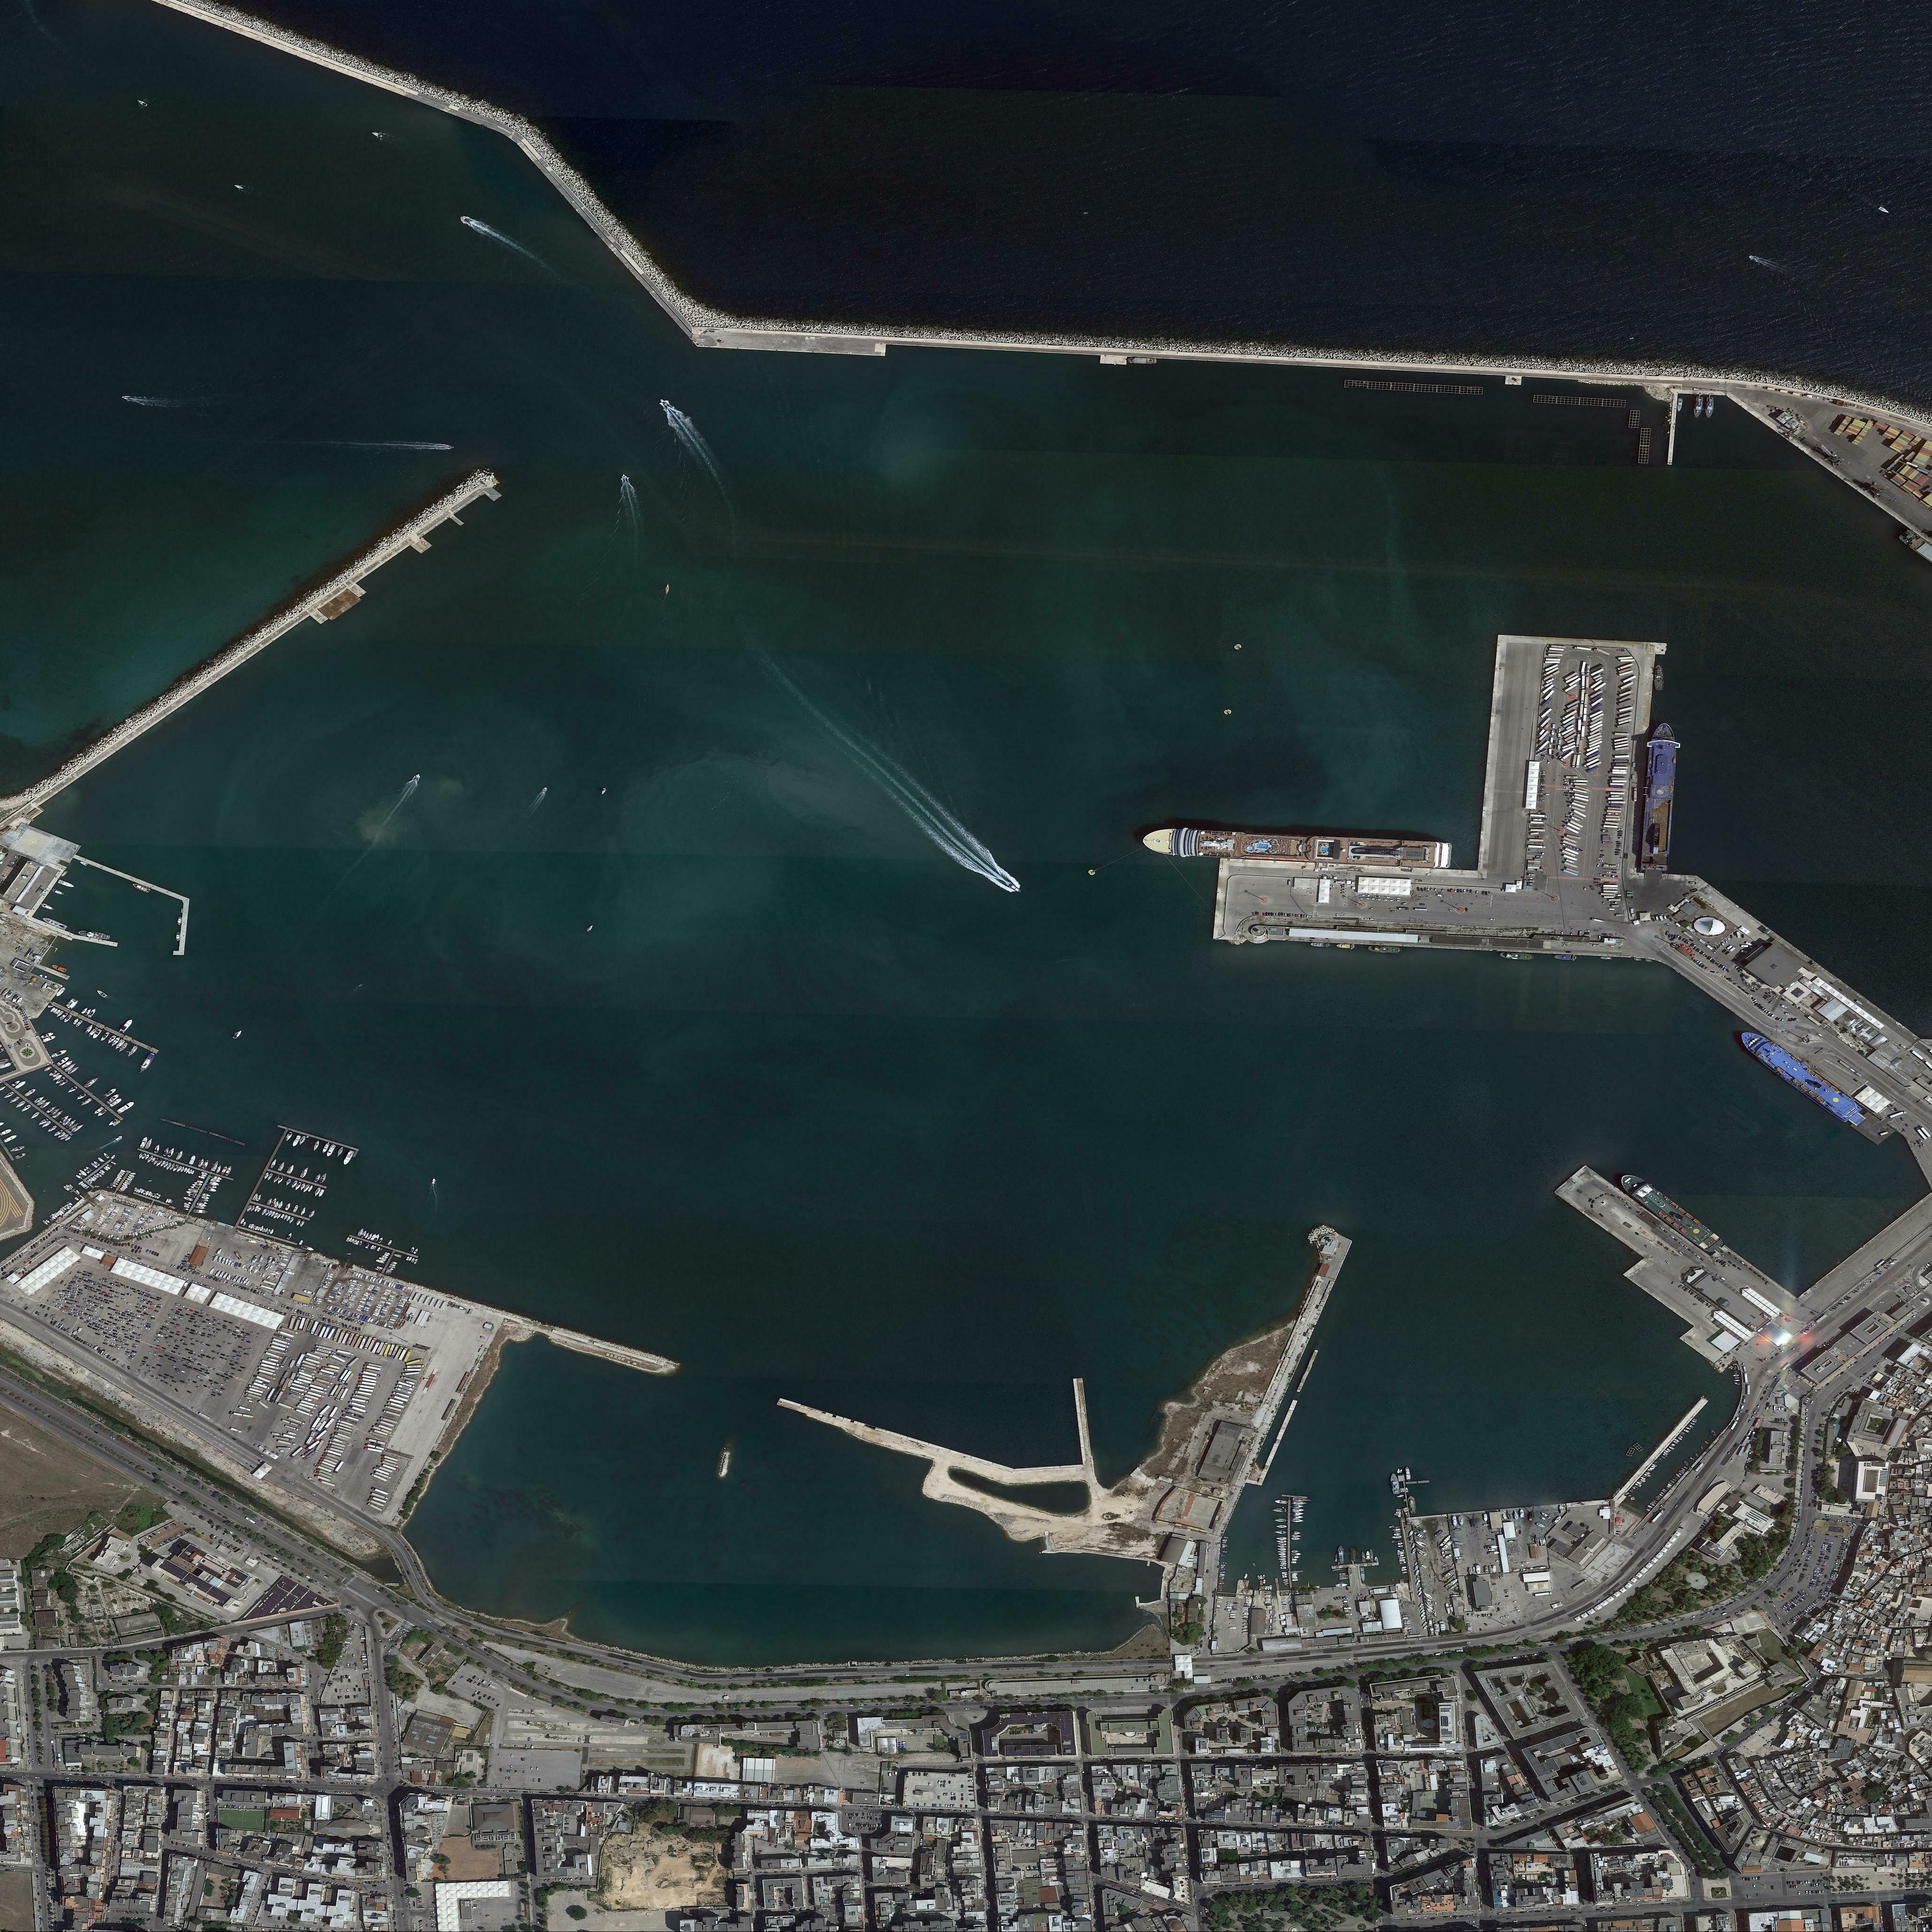harbor: (9, 464, 517, 828), (25, 855, 218, 978), (226, 1123, 361, 1254), (1610, 1396, 1709, 1506), (119, 1146, 235, 1224), (48, 1000, 159, 1054), (1247, 1396, 1300, 1488), (50, 1062, 126, 1122), (338, 1233, 421, 1284), (1279, 1493, 1309, 1589), (1070, 1376, 1095, 1467), (80, 1157, 124, 1196), (1396, 1472, 1433, 1518), (1330, 1560, 1378, 1591), (131, 1191, 172, 1212), (1667, 393, 1677, 465), (34, 962, 69, 980), (111, 1168, 133, 1194), (69, 1187, 88, 1203)
ship: (1734, 1024, 1868, 1127), (1141, 826, 1451, 869), (1617, 1169, 1725, 1256), (1637, 722, 1683, 872), (1500, 950, 1536, 961), (1368, 945, 1403, 955), (41, 916, 67, 931), (138, 1053, 156, 1074), (80, 929, 110, 941), (117, 1099, 136, 1115), (1389, 1472, 1401, 1495), (1654, 665, 1665, 692), (119, 1017, 134, 1035), (1693, 396, 1704, 419), (50, 1047, 69, 1060), (341, 1150, 356, 1166), (104, 1092, 120, 1106), (83, 1076, 99, 1090), (1438, 1534, 1453, 1548), (1444, 1566, 1458, 1580), (1129, 357, 1157, 364), (133, 883, 150, 893), (58, 879, 76, 890), (1706, 396, 1714, 418), (1440, 1539, 1454, 1552), (1445, 1576, 1460, 1589), (71, 1122, 85, 1134), (57, 1054, 71, 1067), (60, 1058, 74, 1070), (65, 1063, 80, 1076), (117, 1040, 129, 1054), (1408, 1495, 1417, 1514), (1553, 954, 1576, 961), (65, 998, 78, 1010), (58, 1113, 71, 1125), (55, 985, 67, 998), (232, 1028, 244, 1040), (64, 1062, 76, 1074), (90, 1028, 103, 1040), (126, 1046, 138, 1058), (113, 1039, 126, 1051), (1309, 941, 1330, 948), (12, 1099, 27, 1109), (4, 1132, 18, 1143), (292, 1134, 303, 1148), (326, 1145, 336, 1159), (108, 1097, 122, 1108), (51, 964, 67, 973), (9, 1145, 25, 1154), (1338, 1545, 1345, 1564), (1414, 1530, 1426, 1541), (1010, 883, 1023, 893), (87, 1007, 97, 1019), (39, 1099, 51, 1109), (96, 989, 108, 1000), (67, 1120, 80, 1131), (299, 1166, 310, 1178), (80, 1097, 92, 1108), (88, 1026, 99, 1039), (92, 1106, 104, 1116), (99, 1031, 111, 1042), (104, 1088, 117, 1099), (110, 1035, 120, 1047), (1414, 1539, 1428, 1548), (51, 888, 65, 897), (301, 1244, 315, 1253), (140, 1136, 149, 1150), (23, 1088, 37, 1097), (211, 1159, 219, 1173), (32, 1095, 46, 1104), (322, 1141, 331, 1155), (14, 1152, 28, 1161), (42, 1035, 57, 1044), (1541, 1511, 1552, 1522), (67, 1085, 78, 1095), (11, 1077, 21, 1088), (30, 1111, 41, 1122), (46, 1104, 57, 1115), (65, 1118, 76, 1129), (16, 1079, 27, 1090), (318, 1173, 329, 1184), (83, 1024, 94, 1035), (106, 1035, 117, 1046), (1415, 1548, 1428, 1557), (136, 99, 149, 108), (4, 1090, 16, 1099), (188, 1154, 196, 1166), (48, 1108, 60, 1116), (37, 1118, 50, 1127), (46, 1125, 58, 1134), (287, 1162, 295, 1175), (336, 1146, 345, 1159), (106, 1118, 119, 1127), (311, 1139, 320, 1152), (1292, 1497, 1311, 1502), (1405, 1465, 1412, 1479), (1806, 393, 1821, 400), (145, 1138, 152, 1152), (303, 1288, 317, 1295), (1444, 1552, 1454, 1560), (1433, 1529, 1444, 1537), (1553, 1514, 1562, 1525), (278, 1161, 287, 1171), (586, 924, 594, 934), (1422, 1591, 1433, 1599), (9, 1095, 19, 1104), (175, 1150, 184, 1161), (145, 1154, 154, 1164), (21, 1104, 32, 1113), (200, 1159, 209, 1169), (166, 1146, 175, 1157), (83, 1007, 92, 1017), (76, 1093, 87, 1102), (37, 1097, 48, 1106), (53, 1109, 64, 1118), (41, 1120, 51, 1129), (191, 1208, 209, 1214), (51, 1074, 62, 1083), (5, 989, 14, 1000), (219, 1164, 228, 1175), (58, 1132, 69, 1141), (55, 1077, 65, 1086), (58, 1079, 69, 1088), (62, 1116, 73, 1125), (53, 1129, 64, 1138), (308, 1208, 317, 1219), (269, 1196, 278, 1207), (313, 1173, 322, 1184), (57, 1131, 67, 1139), (78, 1168, 88, 1177), (299, 1134, 308, 1145), (276, 1175, 285, 1185), (294, 1180, 303, 1191), (313, 1187, 322, 1198), (186, 1189, 196, 1198), (62, 1014, 73, 1023), (58, 1012, 69, 1021), (1440, 1621, 1447, 1633), (1458, 1514, 1465, 1527), (211, 1175, 223, 1182), (207, 1180, 219, 1187), (225, 1164, 232, 1177), (41, 1031, 53, 1039), (1484, 1545, 1500, 1550), (1361, 1566, 1366, 1582), (1683, 1460, 1691, 1468), (1424, 1599, 1433, 1608), (11, 994, 19, 1003), (359, 1230, 368, 1238), (285, 1132, 294, 1141), (97, 1109, 106, 1118), (1539, 1536, 1546, 1546), (1536, 1522, 1546, 1529), (1272, 1507, 1286, 1513), (1445, 1601, 1451, 1615), (1292, 1504, 1306, 1509), (42, 904, 53, 911), (372, 131, 382, 138), (460, 216, 471, 223), (203, 1187, 218, 1192), (1677, 398, 1683, 412), (175, 1164, 182, 1175), (163, 1146, 170, 1157), (216, 1164, 223, 1175), (198, 1157, 205, 1168), (154, 1143, 161, 1154), (48, 1070, 58, 1077), (262, 1171, 269, 1182), (280, 1256, 290, 1263), (283, 1269, 294, 1276), (111, 1120, 122, 1127), (271, 1159, 278, 1169), (303, 1184, 310, 1194), (1292, 1518, 1304, 1523), (1435, 1624, 1440, 1637), (1361, 1550, 1366, 1562), (209, 1178, 221, 1184), (205, 1184, 218, 1189), (195, 1203, 207, 1208), (1599, 955, 1612, 961), (276, 1261, 288, 1267), (1421, 1621, 1430, 1628), (1415, 1578, 1422, 1587), (1408, 1529, 1415, 1537), (393, 1253, 402, 1260), (1709, 1428, 1716, 1437), (172, 1164, 179, 1173), (156, 1159, 163, 1168), (152, 1157, 159, 1166), (2, 987, 9, 996), (80, 1007, 88, 1014), (287, 1231, 294, 1240), (44, 1065, 53, 1072), (267, 1173, 274, 1182), (301, 1207, 308, 1215), (64, 1136, 73, 1143), (90, 1162, 99, 1169), (265, 1198, 272, 1207), (366, 1231, 373, 1240), (260, 1207, 267, 1215), (246, 1203, 253, 1212), (373, 1233, 380, 1242), (363, 1231, 370, 1240), (295, 1217, 303, 1226), (92, 1161, 101, 1168), (249, 1203, 257, 1212), (115, 1134, 124, 1141), (272, 1175, 280, 1184), (97, 1155, 104, 1164), (285, 1178, 292, 1187), (357, 1228, 364, 1237), (271, 1256, 278, 1265), (251, 1254, 258, 1263), (264, 1263, 271, 1272), (62, 1184, 71, 1191), (290, 1180, 297, 1189), (318, 1189, 326, 1198), (76, 1019, 83, 1028), (55, 1010, 64, 1017), (41, 1219, 50, 1226), (1338, 945, 1355, 948), (1454, 1541, 1465, 1546), (1559, 1504, 1564, 1514), (1449, 1603, 1454, 1614), (1292, 1500, 1307, 1504), (1453, 1516, 1458, 1527), (234, 184, 244, 189), (665, 584, 671, 594), (200, 1192, 211, 1198), (166, 1161, 172, 1171), (1511, 1568, 1522, 1573), (1507, 1509, 1513, 1520), (285, 1201, 290, 1212), (248, 1238, 258, 1244), (191, 1184, 202, 1189), (189, 1185, 200, 1191), (182, 1196, 193, 1201), (186, 1192, 196, 1198), (1422, 1624, 1430, 1631), (1419, 1612, 1426, 1619), (1486, 1552, 1500, 1555), (373, 1318, 380, 1325), (232, 1274, 239, 1281), (1292, 1507, 1306, 1511), (1274, 1518, 1288, 1522), (1274, 1530, 1288, 1534), (1274, 1500, 1288, 1504), (1426, 1606, 1433, 1614), (338, 1307, 345, 1315), (62, 870, 69, 878), (1369, 1548, 1373, 1562), (1334, 1583, 1348, 1587), (159, 1161, 166, 1168), (239, 1217, 246, 1224), (1412, 1546, 1419, 1553), (395, 1307, 402, 1315), (297, 1238, 304, 1246), (41, 982, 48, 989), (255, 1194, 262, 1201), (85, 1166, 92, 1173), (377, 1237, 384, 1244), (272, 1212, 280, 1219), (83, 1168, 90, 1175), (370, 1233, 377, 1240), (103, 1152, 110, 1159), (248, 1265, 255, 1272), (244, 1279, 251, 1286), (239, 1276, 246, 1283), (379, 1299, 386, 1306), (212, 1254, 219, 1261), (253, 1205, 260, 1212), (366, 1299, 373, 1306), (209, 1267, 216, 1274), (412, 1247, 419, 1254), (50, 1007, 57, 1014), (65, 1184, 73, 1191), (55, 1008, 62, 1016), (73, 1017, 80, 1024), (1394, 1541, 1403, 1546), (1522, 1560, 1530, 1566), (1476, 1566, 1481, 1575), (1684, 1426, 1693, 1431), (1396, 1493, 1405, 1499), (389, 1318, 398, 1323), (387, 1320, 396, 1325), (326, 1274, 334, 1279), (391, 1313, 400, 1318), (315, 1299, 324, 1304), (396, 1300, 405, 1306), (398, 1299, 407, 1304), (400, 1295, 409, 1300), (326, 1276, 334, 1281), (1415, 1569, 1421, 1578), (1424, 1605, 1433, 1610), (1375, 1557, 1380, 1566), (175, 932, 180, 941), (177, 916, 182, 925), (1499, 1527, 1504, 1536), (170, 1162, 175, 1171), (1414, 1564, 1419, 1573), (1520, 1509, 1525, 1518), (142, 1152, 147, 1161), (280, 1288, 285, 1297), (253, 1192, 258, 1201), (294, 1205, 299, 1214), (278, 1200, 283, 1208), (274, 1200, 280, 1208), (386, 1267, 395, 1272), (276, 1244, 281, 1253), (299, 1219, 304, 1228), (271, 1210, 276, 1219), (288, 1215, 294, 1224), (258, 1254, 264, 1263), (372, 1288, 380, 1293), (287, 1267, 295, 1272), (226, 1258, 232, 1267), (99, 1214, 108, 1219), (379, 1256, 387, 1261), (65, 1201, 74, 1207), (301, 1182, 306, 1191), (308, 1184, 313, 1192), (18, 996, 23, 1005), (96, 1173, 104, 1178), (182, 1201, 191, 1207), (193, 1180, 202, 1185), (1391, 1536, 1403, 1539), (1292, 1511, 1304, 1514), (1391, 1539, 1403, 1543), (1276, 1525, 1288, 1529), (1290, 1537, 1302, 1541), (1290, 1534, 1302, 1537), (1276, 1539, 1288, 1543), (1290, 1555, 1302, 1559), (1292, 1514, 1304, 1518), (198, 1196, 211, 1200), (193, 1205, 205, 1208), (196, 1201, 209, 1205), (1467, 1592, 1472, 1599), (1419, 1608, 1426, 1614), (1440, 1552, 1445, 1559), (1468, 1568, 1474, 1575), (1488, 1548, 1499, 1552), (1417, 1591, 1422, 1598), (1419, 1601, 1424, 1608), (1507, 1541, 1518, 1545), (1488, 1566, 1493, 1573), (1660, 1454, 1667, 1460), (1640, 1476, 1647, 1481), (1668, 1479, 1675, 1484), (1412, 1543, 1417, 1550), (1683, 1428, 1690, 1433), (103, 1221, 110, 1226), (1670, 1442, 1677, 1447), (393, 1311, 400, 1316), (1539, 1516, 1546, 1522), (223, 1270, 228, 1277), (322, 1284, 329, 1290), (110, 1203, 117, 1208), (391, 1260, 398, 1265), (119, 1226, 126, 1231), (1675, 1472, 1681, 1479), (389, 1263, 396, 1269), (108, 1205, 115, 1210), (315, 1297, 322, 1302), (265, 1276, 272, 1281), (241, 1263, 246, 1270), (350, 1311, 356, 1318), (1292, 1530, 1302, 1534), (1656, 1493, 1663, 1499), (343, 1309, 349, 1316), (1451, 1594, 1461, 1598), (347, 1309, 352, 1316), (1679, 1468, 1686, 1474), (356, 1283, 363, 1288), (1399, 1560, 1407, 1566), (1339, 1576, 1350, 1580), (198, 1198, 209, 1201), (660, 400, 667, 405), (602, 787, 607, 794), (541, 787, 548, 793), (414, 773, 419, 780), (1403, 1615, 1410, 1621), (80, 862, 87, 867), (163, 1161, 168, 1168), (1645, 957, 1652, 962), (333, 1306, 338, 1313), (1514, 1511, 1518, 1522), (1502, 1513, 1507, 1520), (251, 1224, 257, 1231), (188, 1168, 193, 1175), (265, 1228, 271, 1235), (1635, 1483, 1642, 1488), (264, 1226, 269, 1233), (1645, 1506, 1652, 1511), (249, 1223, 255, 1230), (88, 1226, 94, 1233), (269, 1228, 274, 1235), (163, 1223, 170, 1228), (267, 1210, 272, 1217), (264, 1210, 269, 1217), (257, 1207, 262, 1214), (78, 1173, 85, 1178), (283, 1214, 288, 1221), (76, 1175, 83, 1180), (117, 1173, 124, 1178), (115, 1175, 122, 1180), (110, 1184, 117, 1189), (410, 1256, 416, 1263), (278, 1254, 288, 1258), (242, 1277, 248, 1284), (387, 1281, 393, 1288), (234, 1261, 239, 1269), (267, 1256, 272, 1263), (230, 1260, 235, 1267), (368, 1276, 373, 1283), (218, 1247, 223, 1254), (364, 1274, 370, 1281), (262, 1272, 267, 1279), (377, 1277, 382, 1284), (352, 1270, 357, 1277), (380, 1279, 386, 1286), (382, 1292, 389, 1297), (387, 1238, 393, 1246), (364, 1304, 372, 1309), (218, 1256, 223, 1263), (225, 1258, 230, 1265), (357, 1302, 364, 1307), (372, 1313, 379, 1318), (402, 1284, 407, 1292), (219, 1270, 225, 1277), (1629, 1497, 1637, 1502), (361, 1297, 368, 1302), (119, 1187, 126, 1192), (96, 1219, 103, 1224), (94, 1221, 101, 1226), (94, 1223, 101, 1228), (97, 1217, 104, 1223), (226, 1274, 232, 1281), (115, 1221, 122, 1226), (373, 1284, 380, 1290), (382, 1254, 389, 1260), (152, 1226, 157, 1233), (350, 1293, 357, 1299), (354, 1286, 361, 1292), (366, 1286, 373, 1292), (389, 1281, 395, 1288), (377, 1265, 384, 1270), (334, 1283, 341, 1288), (331, 1288, 338, 1293), (329, 1292, 336, 1297), (396, 1283, 402, 1290), (349, 1297, 356, 1302), (60, 1205, 67, 1210), (145, 1154, 150, 1161), (138, 1152, 143, 1159), (60, 1207, 65, 1214), (74, 1189, 81, 1194), (64, 1205, 71, 1210), (382, 1306, 389, 1311), (51, 1212, 58, 1217), (359, 1299, 366, 1304), (124, 1219, 131, 1224), (276, 1212, 281, 1219), (103, 1166, 110, 1171), (138, 1187, 143, 1194), (198, 1175, 205, 1180), (122, 1182, 129, 1187), (110, 1161, 117, 1166), (44, 1219, 51, 1224), (110, 1154, 117, 1159), (188, 1189, 198, 1192), (53, 1007, 58, 1014), (1454, 1557, 1463, 1560), (1486, 1566, 1490, 1575), (1396, 1550, 1405, 1553), (1394, 1513, 1403, 1516), (1486, 1537, 1495, 1541), (1525, 1568, 1534, 1571), (1277, 1548, 1286, 1552), (1493, 1564, 1497, 1573), (389, 1316, 398, 1320), (1277, 1543, 1286, 1546), (393, 1309, 402, 1313), (39, 975, 48, 978), (1242, 1605, 1251, 1608), (1215, 1596, 1224, 1599), (1392, 1530, 1401, 1534), (1366, 1550, 1369, 1559), (1230, 1610, 1238, 1614), (1398, 1559, 1407, 1562), (1364, 1615, 1373, 1619), (122, 396, 131, 400), (1334, 1553, 1338, 1562), (1403, 1626, 1412, 1629), (1403, 1621, 1412, 1624), (1484, 1513, 1488, 1522), (396, 1304, 405, 1307), (1398, 1555, 1407, 1559), (46, 1005, 55, 1008), (281, 1251, 290, 1254), (387, 1295, 396, 1299), (221, 1256, 225, 1265), (380, 1309, 389, 1313), (375, 1260, 384, 1263), (124, 1180, 133, 1184), (182, 1205, 191, 1208), (1421, 1606, 1426, 1612), (1421, 1615, 1426, 1621), (1253, 1562, 1258, 1568), (1417, 1587, 1422, 1592), (1256, 1575, 1261, 1580), (1672, 1477, 1677, 1483), (1647, 1468, 1652, 1474), (1667, 1484, 1672, 1490), (1677, 1472, 1683, 1477), (1661, 1488, 1667, 1493), (1688, 1422, 1693, 1428), (1668, 1445, 1674, 1451), (1663, 1451, 1668, 1456), (1679, 1433, 1684, 1438), (103, 1223, 108, 1228), (113, 1208, 119, 1214), (138, 1230, 143, 1235), (97, 1230, 103, 1235), (138, 1205, 143, 1210), (168, 1221, 173, 1226), (140, 1215, 145, 1221), (133, 1230, 138, 1235), (173, 1221, 179, 1226), (122, 1212, 127, 1217), (106, 1207, 111, 1212), (366, 1316, 372, 1322), (370, 1318, 375, 1323), (361, 1315, 366, 1320), (356, 1313, 361, 1318), (354, 1313, 359, 1318), (1704, 1440, 1709, 1445), (1624, 1491, 1629, 1497), (1683, 1465, 1688, 1470), (1660, 1490, 1665, 1495), (336, 1307, 341, 1313), (150, 1157, 156, 1162), (1651, 1500, 1656, 1506), (1629, 1488, 1635, 1493), (1414, 1560, 1419, 1566), (1654, 1497, 1660, 1502), (1656, 1495, 1661, 1500), (1649, 1502, 1654, 1507), (1645, 1507, 1651, 1513), (159, 1224, 165, 1230), (81, 1224, 87, 1230), (85, 1185, 90, 1191), (83, 1184, 88, 1189), (372, 1277, 377, 1283), (90, 1177, 96, 1182), (384, 1290, 389, 1295), (154, 1226, 159, 1231), (368, 1284, 373, 1290), (373, 1311, 379, 1316), (131, 1210, 136, 1215), (111, 1228, 117, 1233), (113, 1224, 119, 1230), (364, 1292, 370, 1297), (55, 1212, 60, 1217), (216, 1270, 221, 1276), (398, 1284, 403, 1290), (370, 1292, 375, 1297), (58, 1212, 64, 1217), (159, 1212, 165, 1217), (280, 1214, 285, 1219), (154, 1192, 159, 1198), (94, 1173, 99, 1178), (122, 1184, 127, 1189), (140, 1189, 145, 1194), (78, 1180, 83, 1185), (1644, 1472, 1651, 1476), (1421, 1566, 1428, 1569), (1219, 1568, 1226, 1571), (1398, 1552, 1405, 1555), (1398, 1553, 1405, 1557), (1244, 1573, 1247, 1580), (1417, 1575, 1421, 1582), (1290, 1560, 1297, 1564), (1398, 1545, 1405, 1548), (1483, 1523, 1490, 1527), (1279, 1564, 1286, 1568), (1644, 1474, 1651, 1477), (1651, 1463, 1658, 1467), (1672, 1440, 1679, 1444), (1405, 1486, 1408, 1493), (1677, 1437, 1684, 1440), (1674, 1438, 1681, 1442), (364, 1315, 368, 1322), (387, 1325, 395, 1329), (324, 1281, 331, 1284), (327, 1272, 334, 1276), (1394, 1532, 1401, 1536), (129, 1231, 133, 1238), (147, 1217, 154, 1221), (133, 1224, 140, 1228), (142, 1214, 149, 1217), (168, 1214, 172, 1221), (122, 1223, 129, 1226), (272, 1270, 280, 1274), (1401, 1568, 1408, 1571), (1401, 1566, 1408, 1569), (1468, 1598, 1472, 1605), (1435, 1612, 1438, 1619), (1688, 1458, 1695, 1461), (1221, 1539, 1228, 1543), (1732, 1369, 1739, 1373), (1359, 1594, 1362, 1601), (1226, 1601, 1233, 1605), (1228, 1617, 1235, 1621), (1246, 1598, 1253, 1601), (1244, 1612, 1251, 1615), (1635, 957, 1642, 961), (340, 1300, 347, 1304), (1246, 1601, 1253, 1605), (260, 1224, 264, 1231), (1263, 1628, 1267, 1635), (1242, 1631, 1249, 1635), (1242, 1615, 1249, 1619), (180, 1166, 184, 1173), (329, 1304, 333, 1311), (186, 1168, 189, 1175), (396, 1306, 403, 1309), (1281, 1575, 1288, 1578), (375, 1307, 382, 1311), (113, 1180, 120, 1184), (386, 1270, 393, 1274), (432, 1177, 435, 1184), (106, 1185, 113, 1189), (115, 1178, 122, 1182), (111, 1182, 119, 1185), (157, 1224, 161, 1231), (237, 1276, 241, 1283), (386, 1300, 393, 1304), (347, 1286, 354, 1290), (345, 1292, 352, 1295), (375, 1306, 382, 1309), (361, 1272, 364, 1279), (384, 1288, 391, 1292), (380, 1297, 387, 1300), (373, 1309, 380, 1313), (410, 1246, 414, 1253), (349, 1281, 356, 1284), (350, 1279, 357, 1283), (380, 1313, 387, 1316), (157, 1210, 161, 1217), (124, 1208, 131, 1212), (393, 1283, 396, 1290), (349, 1284, 356, 1288), (361, 1295, 368, 1299), (372, 1292, 379, 1295), (347, 1302, 354, 1306), (50, 1215, 57, 1219), (287, 1215, 290, 1223), (366, 1242, 370, 1249), (414, 1258, 418, 1265), (97, 1171, 104, 1175), (196, 1180, 203, 1184), (377, 1246, 380, 1253), (127, 1177, 134, 1180), (124, 1182, 131, 1185), (126, 1177, 133, 1180), (182, 1207, 189, 1210), (1276, 1537, 1288, 1539), (1292, 1553, 1302, 1555), (1396, 1507, 1401, 1511), (1221, 1553, 1226, 1557), (1260, 1575, 1263, 1580), (1265, 1585, 1269, 1591), (1267, 1585, 1270, 1591), (1219, 1571, 1224, 1575), (1667, 1447, 1672, 1451), (1217, 1589, 1223, 1592), (1667, 1483, 1672, 1486), (1748, 255, 1753, 258), (1217, 1585, 1223, 1589), (1658, 1458, 1663, 1461), (1219, 1580, 1224, 1583), (1399, 1468, 1403, 1474), (1691, 1419, 1697, 1422), (1665, 1449, 1670, 1453), (115, 1207, 120, 1210), (384, 1322, 387, 1327), (138, 1219, 143, 1223), (149, 1208, 152, 1214), (136, 1221, 142, 1224), (120, 1215, 126, 1219), (122, 1224, 127, 1228), (133, 1226, 138, 1230), (1651, 1467, 1656, 1470), (1389, 1525, 1394, 1529), (111, 1214, 117, 1217), (1674, 1476, 1679, 1479), (1403, 1571, 1408, 1575), (1700, 1445, 1704, 1451), (1281, 1571, 1286, 1575), (1283, 1578, 1288, 1582), (1695, 1453, 1698, 1458), (1284, 1582, 1290, 1585), (1223, 1536, 1228, 1539), (1233, 1601, 1238, 1605), (1734, 1382, 1739, 1385), (623, 474, 626, 479), (191, 1169, 195, 1175), (1269, 1619, 1272, 1624), (262, 1228, 265, 1233), (449, 446, 455, 449), (1270, 1610, 1274, 1615), (1269, 1624, 1272, 1629), (248, 1223, 251, 1228), (1734, 1366, 1737, 1371), (326, 1304, 329, 1309), (359, 1315, 363, 1320), (184, 1168, 188, 1173), (1658, 1493, 1663, 1497), (1637, 1481, 1642, 1484), (242, 1221, 246, 1226), (255, 1226, 258, 1231), (1221, 1550, 1226, 1553), (1690, 1421, 1695, 1424), (80, 1224, 83, 1230), (347, 1237, 350, 1242), (1631, 1486, 1637, 1490), (87, 1180, 92, 1184), (88, 1178, 94, 1182), (387, 1299, 393, 1302), (405, 1256, 410, 1260), (333, 1286, 338, 1290), (154, 1210, 157, 1215), (356, 1272, 359, 1277), (347, 1290, 352, 1293), (368, 1297, 373, 1300), (364, 1307, 370, 1311), (149, 1228, 152, 1233), (104, 1210, 110, 1214), (119, 1219, 124, 1223), (357, 1306, 363, 1309), (375, 1267, 380, 1270), (386, 1302, 391, 1306), (327, 1295, 333, 1299), (327, 1299, 333, 1302), (343, 1299, 349, 1302), (74, 1198, 80, 1201), (129, 1214, 134, 1217), (145, 1230, 150, 1233), (359, 1240, 363, 1246), (409, 1256, 412, 1261), (356, 1240, 359, 1246), (80, 1182, 85, 1185), (126, 1169, 131, 1173), (143, 1191, 147, 1196), (127, 1217, 133, 1221), (92, 1177, 97, 1180), (99, 1169, 104, 1173), (373, 1246, 377, 1251), (106, 1164, 111, 1168), (133, 1187, 136, 1192), (129, 1175, 134, 1178), (150, 1192, 154, 1198), (152, 1192, 156, 1198), (104, 1166, 110, 1169), (145, 1191, 149, 1196), (149, 1191, 152, 1196), (157, 1194, 161, 1200), (168, 1198, 172, 1203), (165, 1198, 168, 1203), (120, 1169, 126, 1173), (81, 1184, 87, 1187), (1290, 1550, 1299, 1552), (1277, 1552, 1286, 1553), (1277, 1546, 1286, 1548), (1392, 1529, 1401, 1530), (1228, 1628, 1237, 1629), (1292, 1559, 1299, 1560), (1263, 1580, 1267, 1583), (1396, 1511, 1403, 1513), (1663, 1454, 1667, 1458), (1221, 1562, 1228, 1564), (1292, 1580, 1299, 1582), (1279, 1560, 1286, 1562), (1277, 1559, 1284, 1560), (1279, 1555, 1286, 1557), (1277, 1553, 1284, 1555), (108, 1233, 110, 1240), (1279, 1568, 1286, 1569), (1215, 1601, 1223, 1603), (1221, 1543, 1228, 1545), (1730, 1366, 1734, 1369), (1260, 1589, 1261, 1596), (1224, 1606, 1231, 1608), (1339, 1573, 1346, 1575), (1732, 1375, 1739, 1376), (1734, 1380, 1741, 1382), (1242, 1629, 1249, 1631), (1242, 1626, 1249, 1628), (1242, 1622, 1249, 1624), (1729, 1366, 1732, 1369), (1221, 1545, 1228, 1546), (94, 1185, 101, 1187), (375, 1304, 382, 1306), (357, 1274, 361, 1277), (119, 1173, 126, 1175), (202, 1175, 209, 1177), (136, 1189, 140, 1192), (1219, 1575, 1224, 1576), (1219, 1576, 1224, 1578), (1219, 1578, 1224, 1580), (1263, 1575, 1265, 1580), (1270, 1585, 1272, 1591), (1221, 1566, 1226, 1568), (1292, 1573, 1297, 1575), (1292, 1576, 1297, 1578), (1398, 1468, 1399, 1474), (1281, 1562, 1286, 1564), (1681, 1431, 1686, 1433), (386, 1253, 391, 1254), (258, 1226, 260, 1231), (1511, 1553, 1516, 1555), (1214, 1608, 1219, 1610), (1215, 1612, 1221, 1614), (1734, 1376, 1739, 1378), (352, 1238, 354, 1244), (131, 1173, 136, 1175), (372, 1244, 373, 1249), (1219, 1583, 1223, 1585), (110, 1217, 113, 1219)
